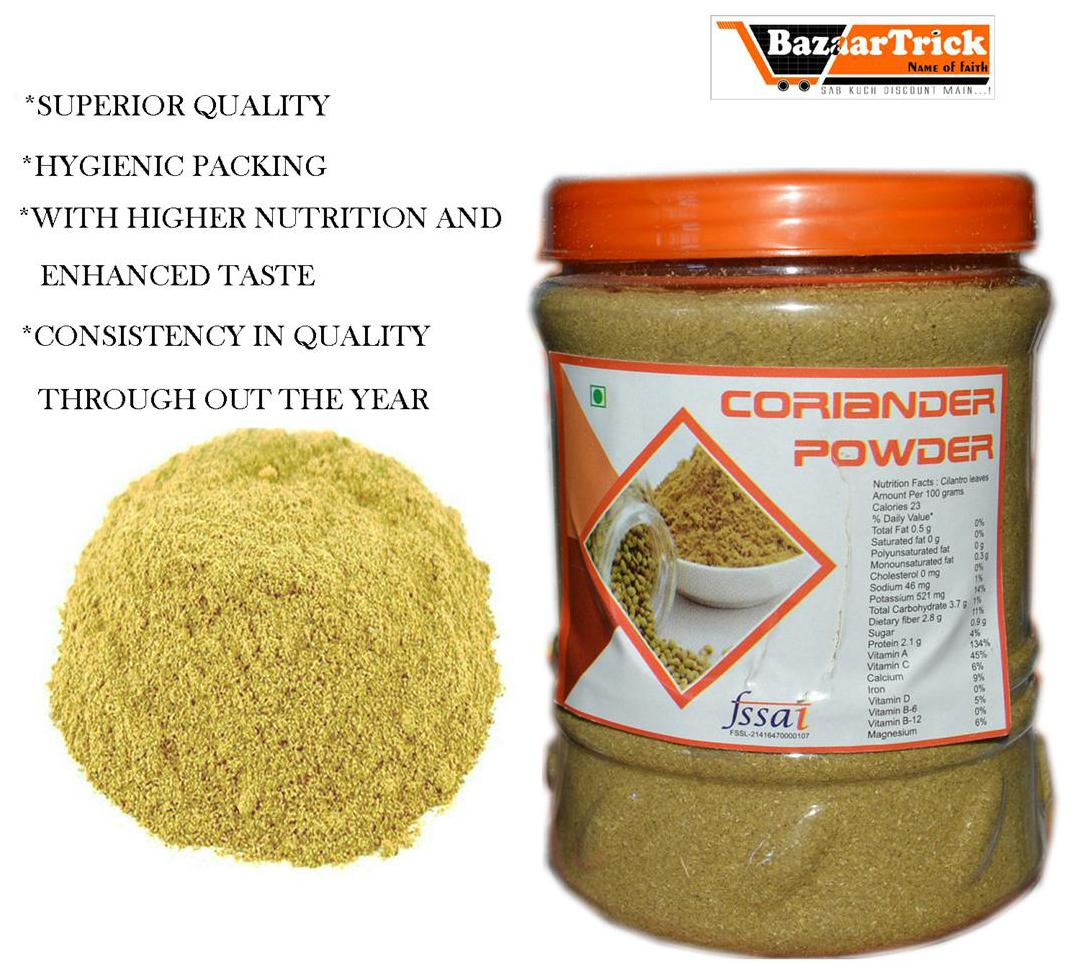JAR: (523, 162, 1056, 964)
